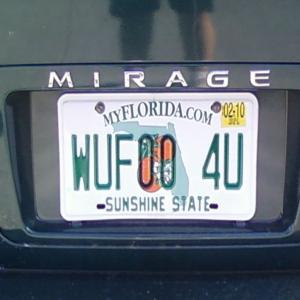Vehicle-registration-plate: (59, 93, 259, 224)
